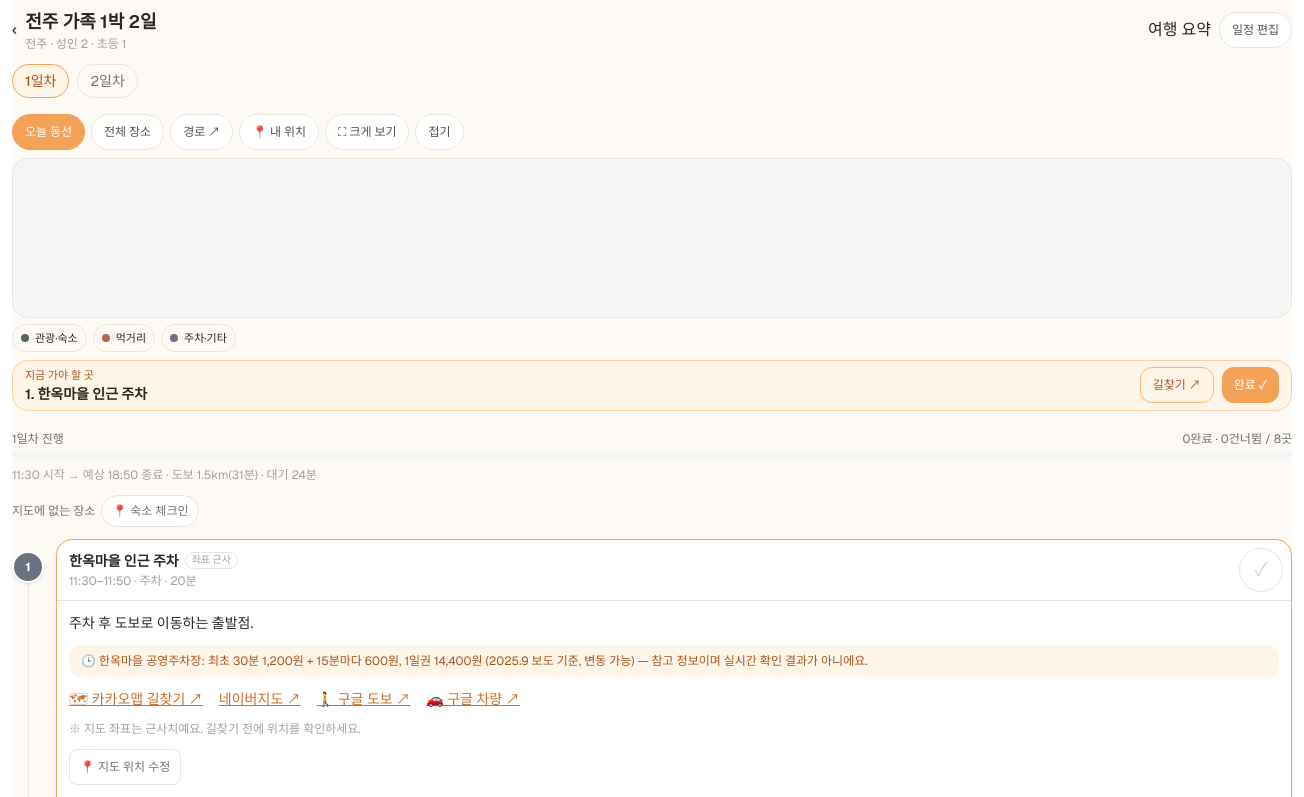
Scenario: 바로 반영 (낙관적 업데이트) › 네트워크 예외도 오류로 알린다
Click the button "✓" at (1261, 570), box [1239,548,1283,592]
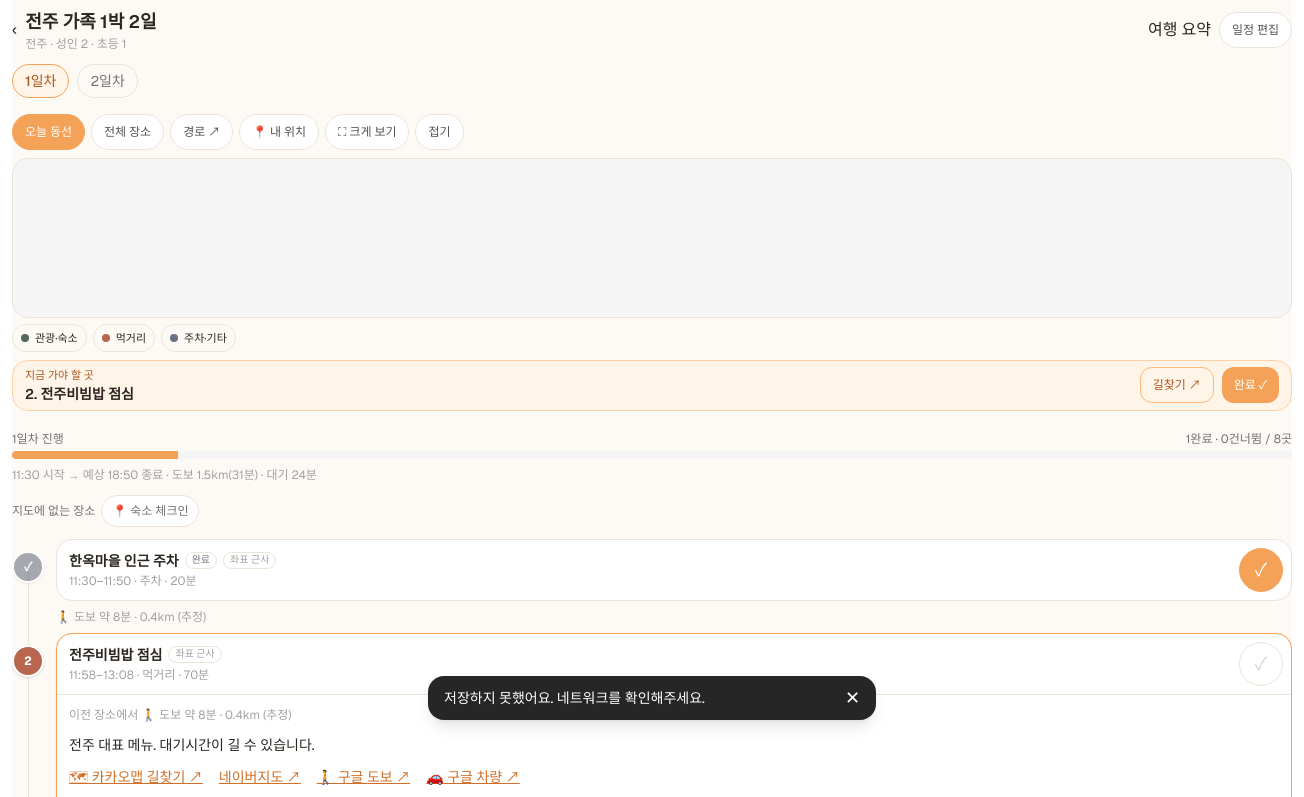
Now the message shows "네트워크", box [444,689,705,707]
